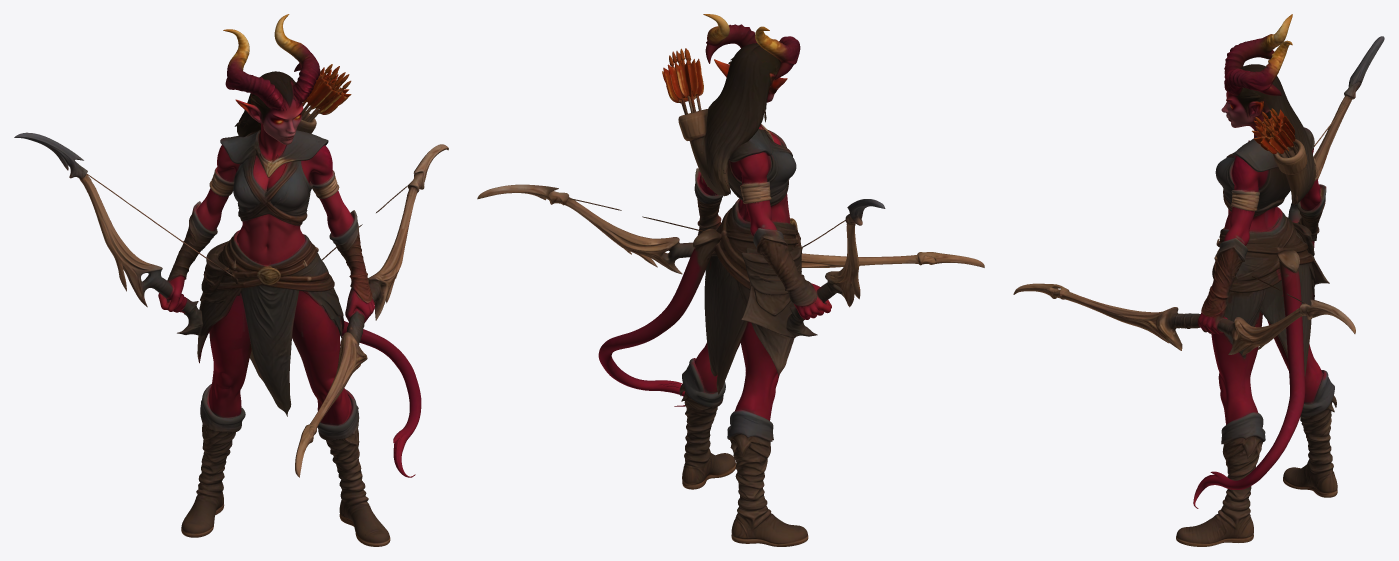
File: tiefling_ranger_full_female_01.glb
3 renders of one model, left to right at view 1: azimuth 30°, elevation 25°; view 2: azimuth 150°, elevation 25°; view 3: azimuth 270°, elevation 25°, orthographic. The views are drawn at different scales.
Parts seen in each view (by area): view 1: material; view 2: material; view 3: material.
Part boxes in pixels (x1,y1,x2,y2): material: (14,14,448,546); material: (477,14,984,546); material: (1013,14,1384,546).
Bounding box in the file's own units: 0.8351 × 0.9465 × 0.6636.
Materials: 1 (1 with a texture image).
